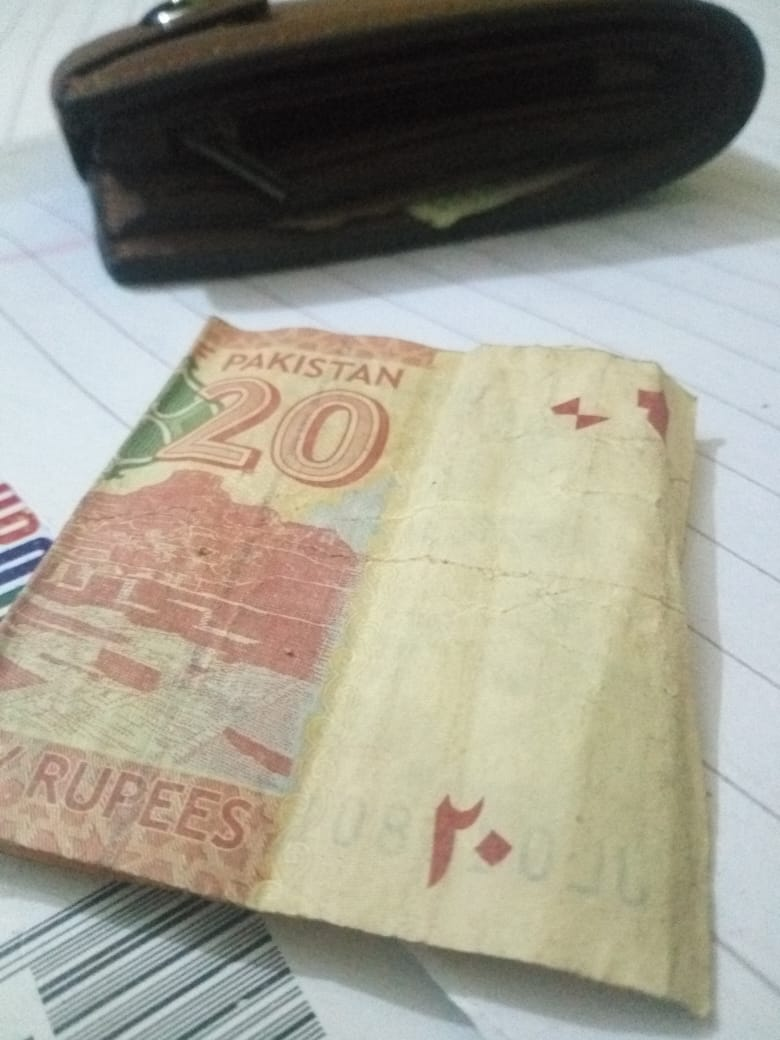20 rupee: (9, 290, 760, 1040)
